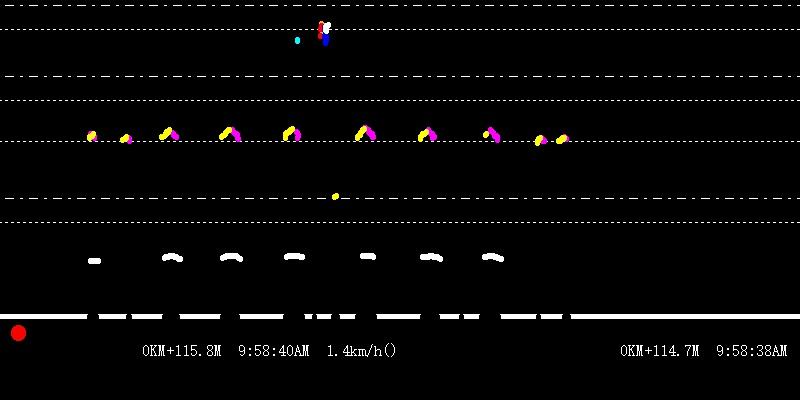circle: (10, 323, 26, 341)
face_1: (292, 23, 304, 48)
face_s: (318, 21, 333, 48)
y_p: (153, 116, 518, 274)
